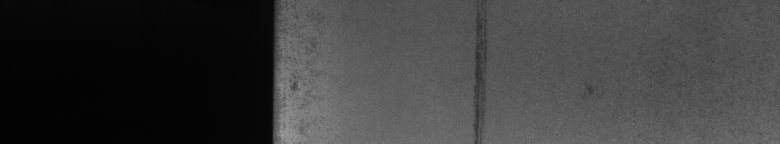hd: (468, 4, 488, 136)
